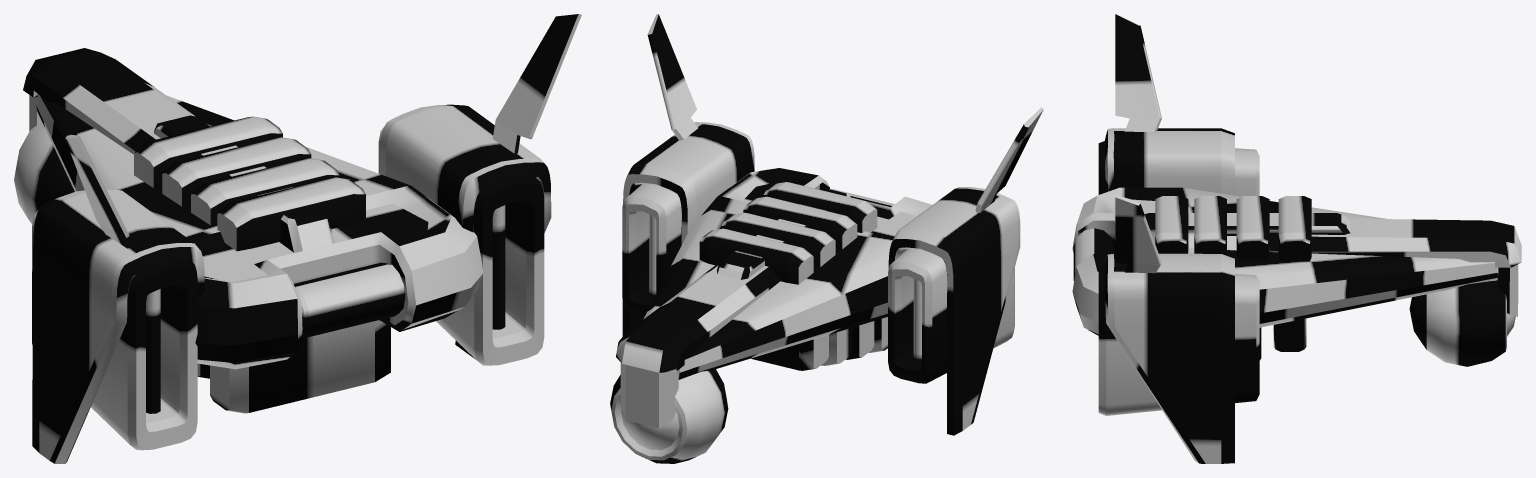
File: pet_spectrum.obj
3 renders of one model, left to right at view 1: azimuth 30°, elevation 25°; view 2: azimuth 150°, elevation 25°; view 3: azimuth 270°, elevation 25°, orthographic. The views are drawn at different scales.
Visible parts, largest first — view 1: pet_spectrum_ingame; view 2: pet_spectrum_ingame; view 3: pet_spectrum_ingame.
Boxes of the visible parts, x1,y1,x2,y2 form: pet_spectrum_ingame: (14,14,581,463); pet_spectrum_ingame: (610,14,1043,463); pet_spectrum_ingame: (1072,14,1521,463).
Size of the model in its own units: 62.16 by 44.34 by 64.35.
Materials: 1 (1 with a texture image).
